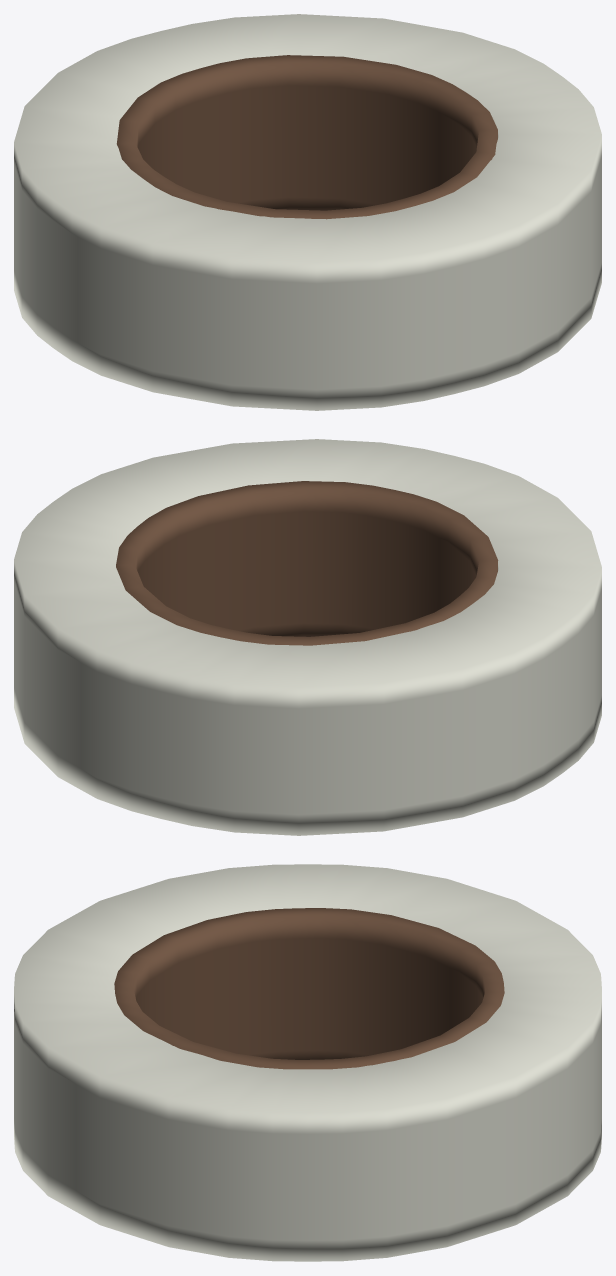
The model's file is tape.fbx.
3 renders of one model, top to bottom at view 1: azimuth 30°, elevation 25°; view 2: azimuth 150°, elevation 25°; view 3: azimuth 270°, elevation 25°, orthographic.
Visible parts, largest first — view 1: 曲面, 曲面.001; view 2: 曲面, 曲面.001; view 3: 曲面, 曲面.001.
Part boxes in pixels (x1,y1,x2,y2): 曲面: (14, 14, 601, 410); 曲面.001: (116, 55, 497, 219); 曲面: (14, 439, 601, 835); 曲面.001: (116, 481, 498, 645); 曲面: (14, 864, 601, 1261); 曲面.001: (114, 908, 504, 1069).
Size of the model in its own units: 36.25 by 10.74 by 36.24.
